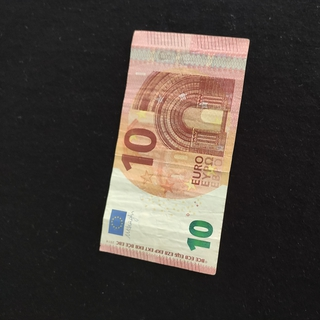10EUROFront: (98, 29, 250, 275)
